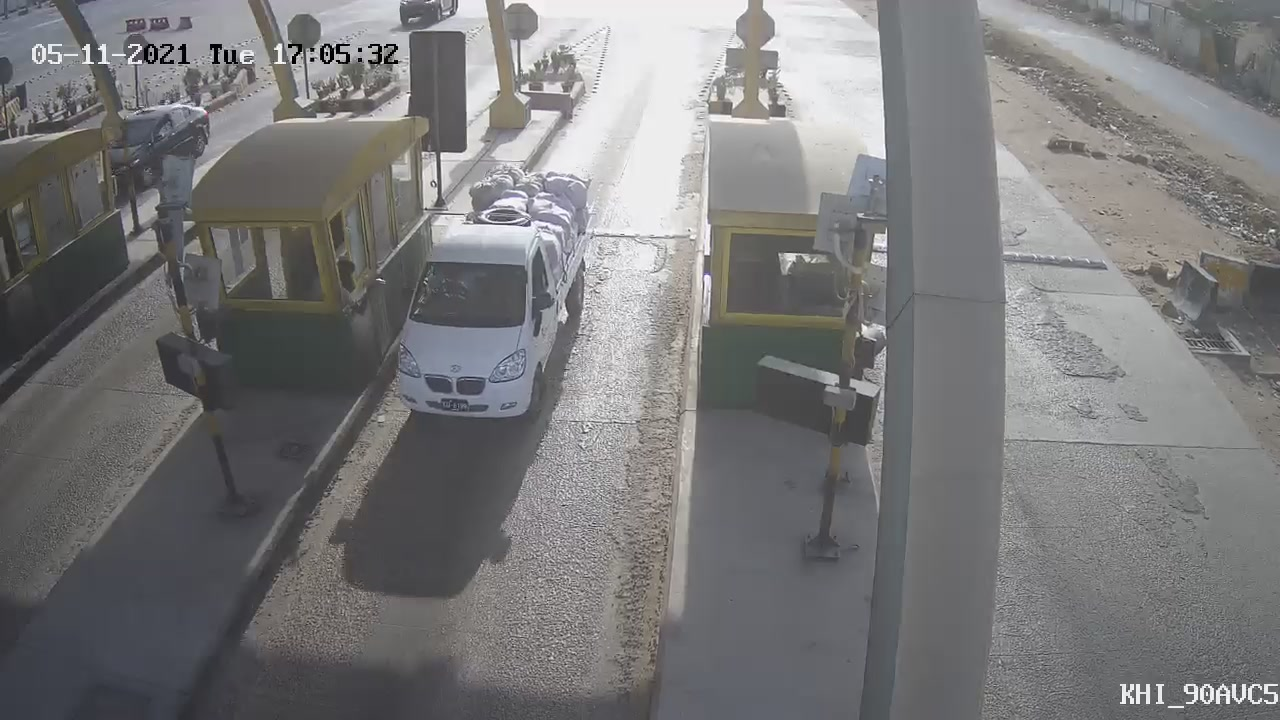F2: (379, 155, 601, 431)
